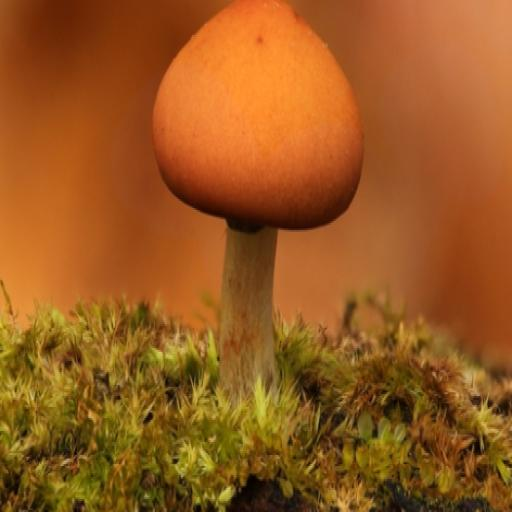Funeral Bell: (140, 0, 370, 392)
